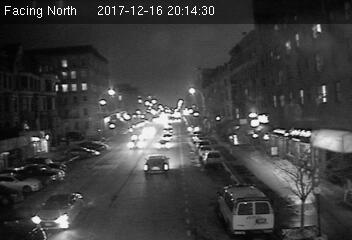car: (32, 192, 86, 231), (143, 154, 172, 175), (203, 150, 221, 166), (128, 139, 146, 150)
police: (214, 181, 274, 237)
